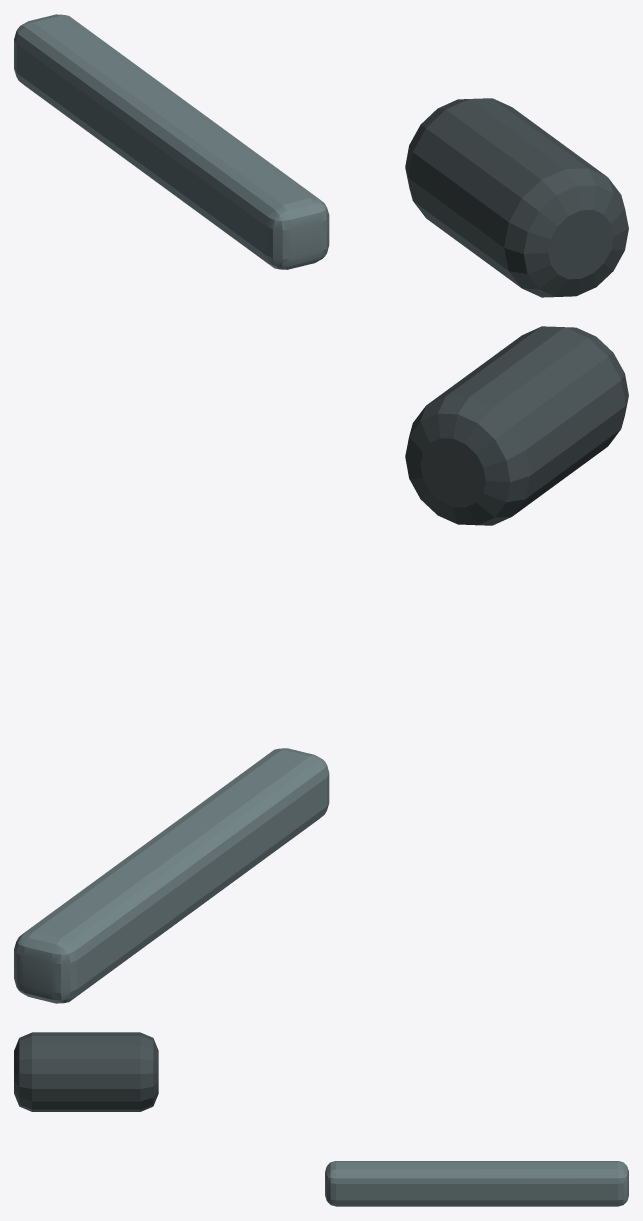
The model's file is kit_ranger.glb.
3 renders of one model, top to bottom at view 1: azimuth 30°, elevation 25°; view 2: azimuth 150°, elevation 25°; view 3: azimuth 270°, elevation 25°, orthographic. The views are drawn at different scales.
Visible parts, largest first — view 1: Scope, LongBarrel; view 2: Scope, LongBarrel; view 3: LongBarrel, Scope.
Part boxes in pixels (left/top/right/bottom): Scope: left=405, top=98, right=628, bottom=297; LongBarrel: left=14, top=14, right=329, bottom=269; Scope: left=405, top=326, right=628, bottom=525; LongBarrel: left=14, top=748, right=329, bottom=1003; LongBarrel: left=325, top=1161, right=628, bottom=1206; Scope: left=14, top=1032, right=158, bottom=1111.
Size of the model in its own units: 0.11 by 0.2525 by 0.85.
